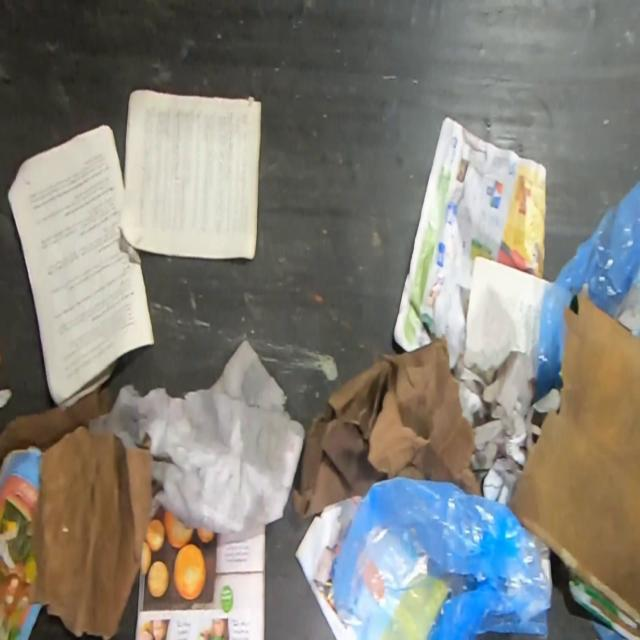cardboard: (0, 444, 45, 640), (566, 567, 639, 639)
soft_plastic: (328, 476, 554, 640), (530, 177, 640, 406)
